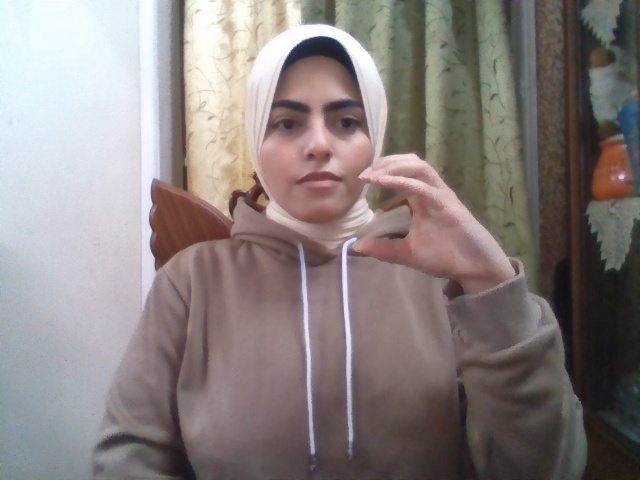C: (350, 154, 513, 283)
